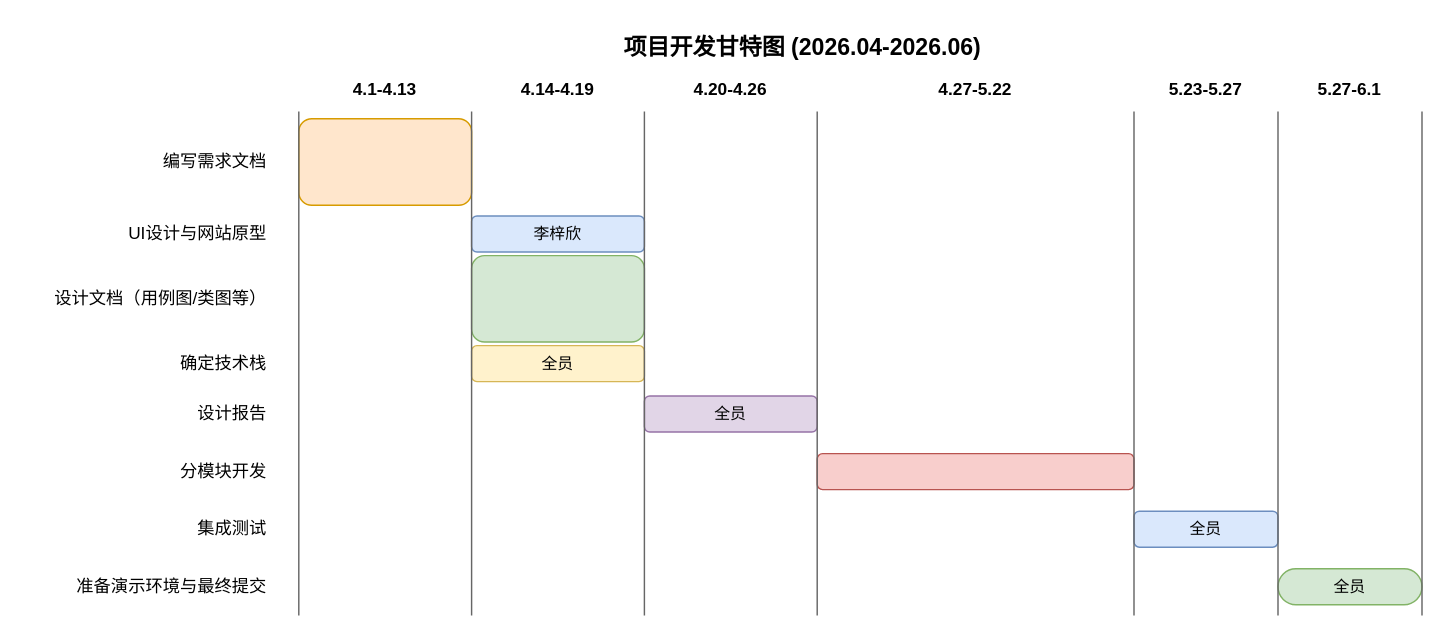
This 1449x642 diagram has some shape labels left out. The centre of each missing label's shape, as x and y in pixels:
"全体开发（按分工模块）" belongs at [975,471].
"李晔：简历 王颖超：课程成绩 薛军浩：成就 魏吾嘉：对比 李梓欣：权限视图" belongs at [384,161].
"李梓欣：甘特图； 李晔：用例图； 薛军浩：功能结构图； 魏吾嘉：类图； 王颖超：时序图" belongs at [557,298].
